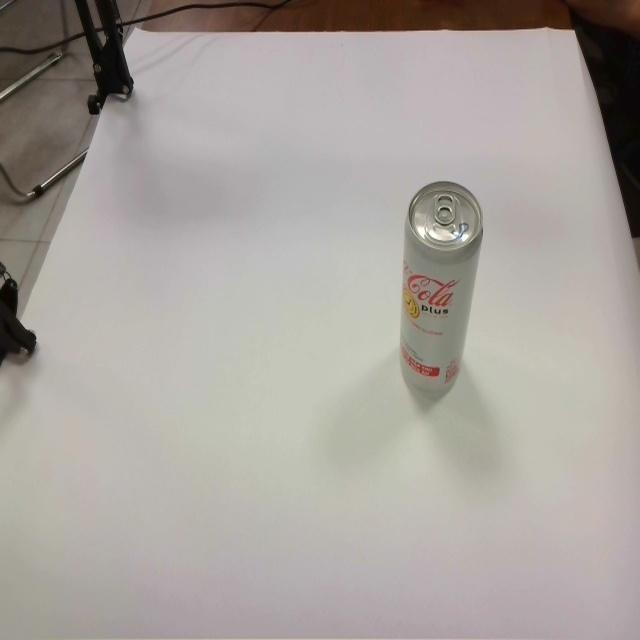debris: (399, 179, 484, 414)
